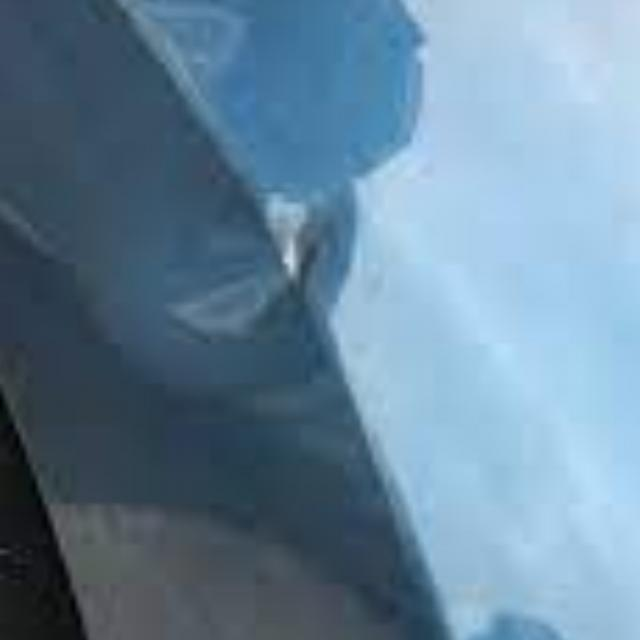dents: (166, 190, 363, 360)
